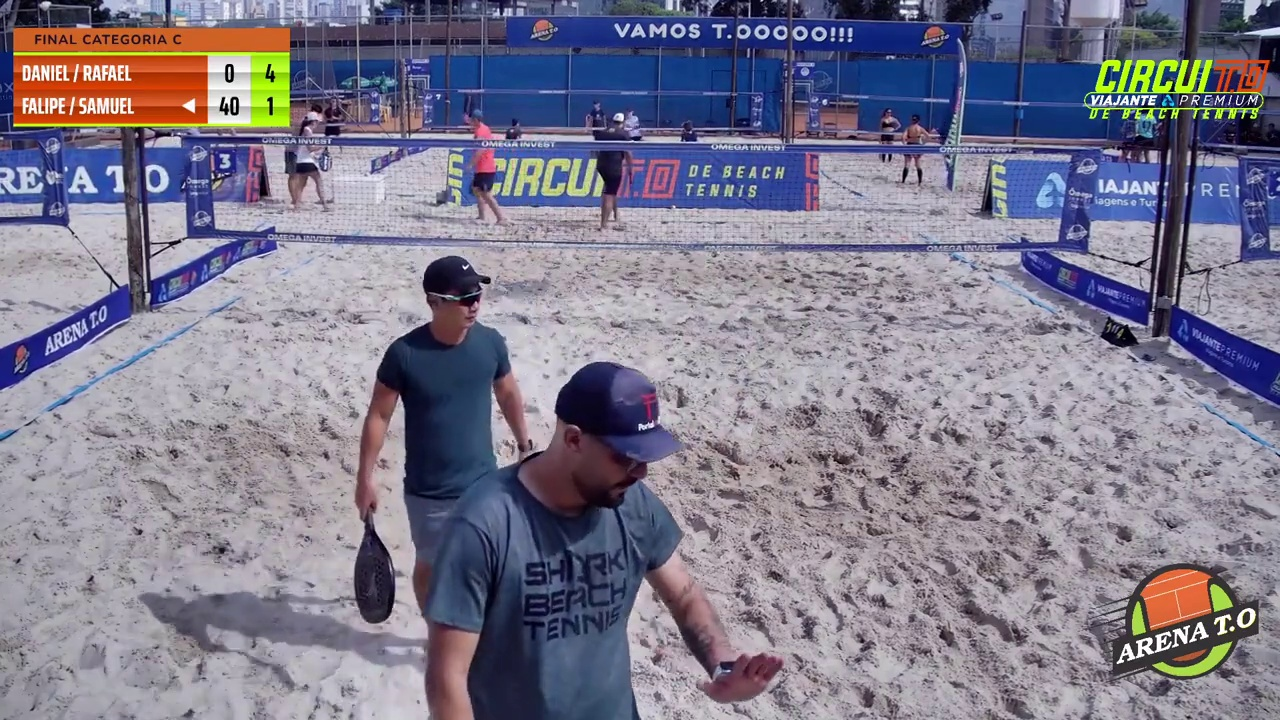court_line: (642, 0, 815, 422)
